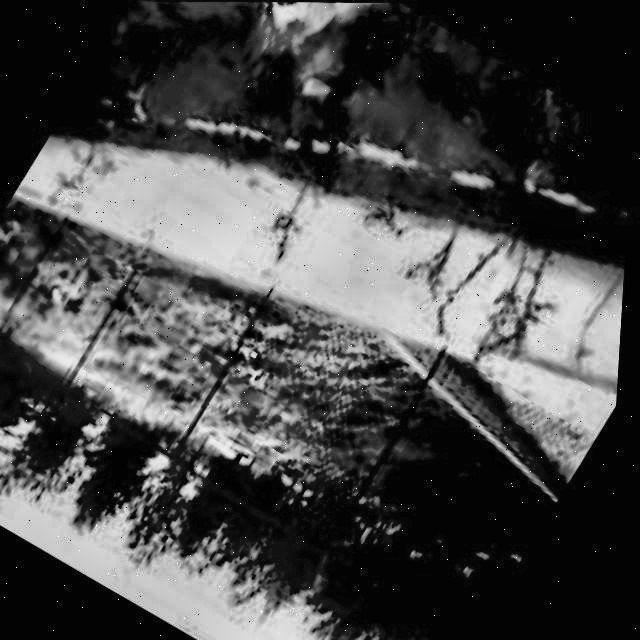Fire: (227, 1, 357, 88)
